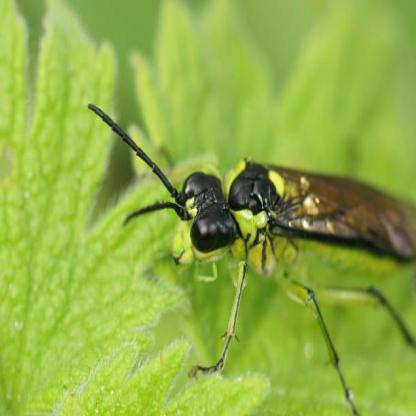sawfly: (87, 96, 416, 415)
